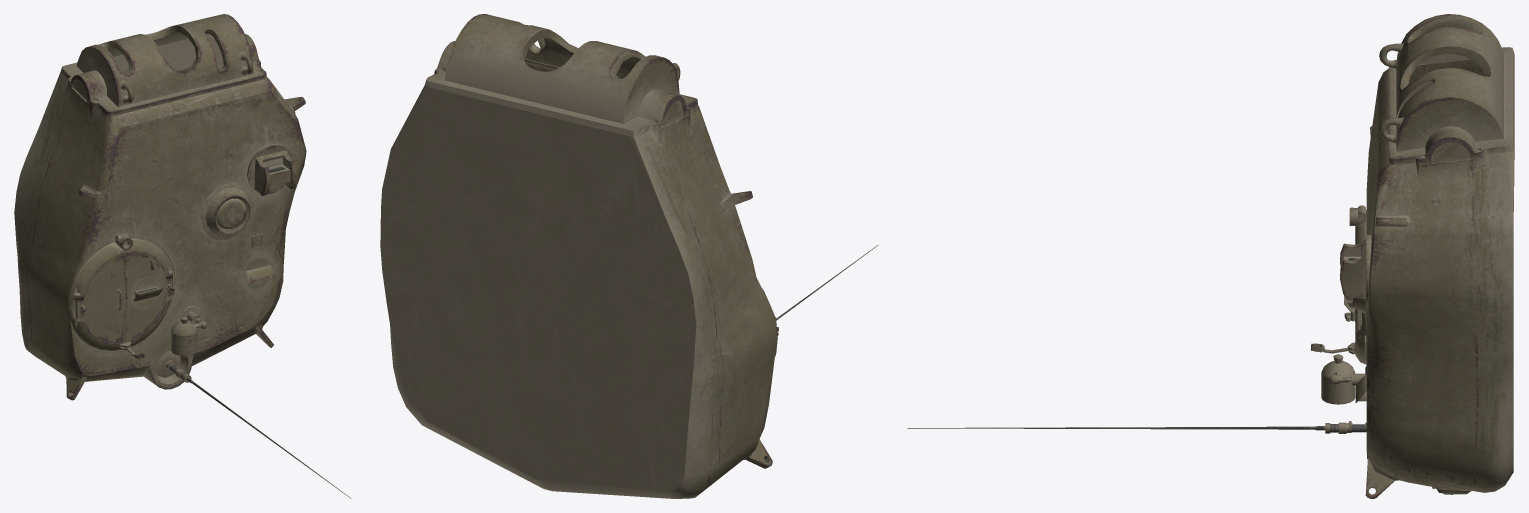
The model's file is Turret_02.glb.
3 renders of one model, left to right at view 1: azimuth 30°, elevation 25°; view 2: azimuth 150°, elevation 25°; view 3: azimuth 270°, elevation 25°, orthographic. The views are drawn at different scales.
Parts seen in each view (by area): view 1: set_0_group_0; view 2: set_0_group_0; view 3: set_0_group_0.
Part boxes in pixels (x1,y1,x2,y2): set_0_group_0: (14, 14, 351, 498); set_0_group_0: (380, 14, 878, 498); set_0_group_0: (907, 14, 1514, 498).
Bounding box in the file's own units: 2.03 × 2.6 × 3.43.
1 material, 1 textured.
